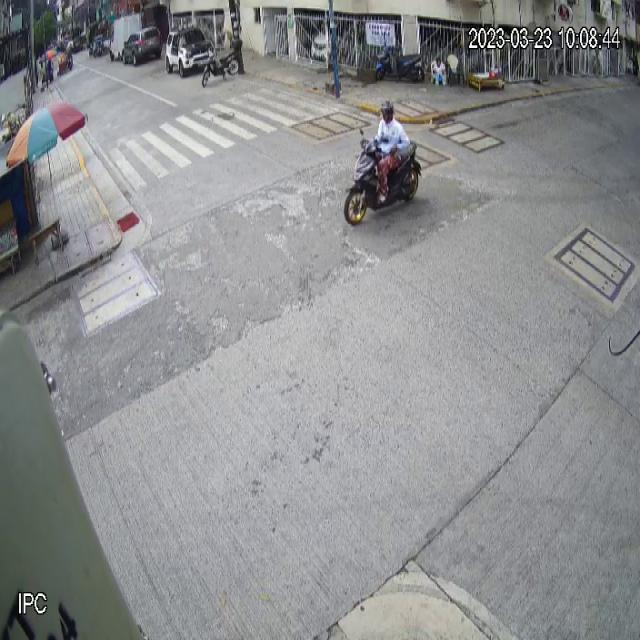Motorcycle: (343, 126, 422, 227)
